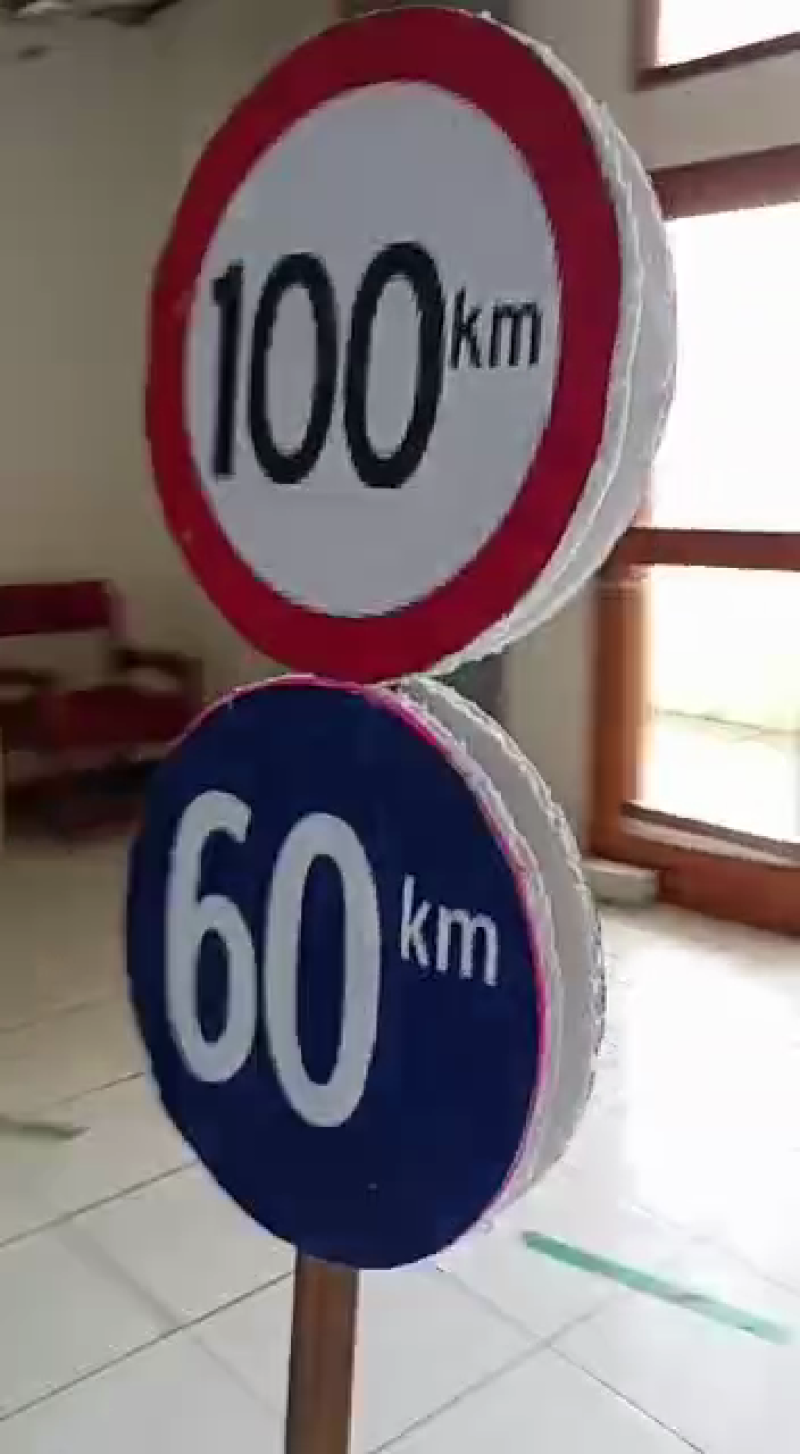batas maksimal 100kmperjam minimal 60kmperjam: (104, 1, 659, 1286)
